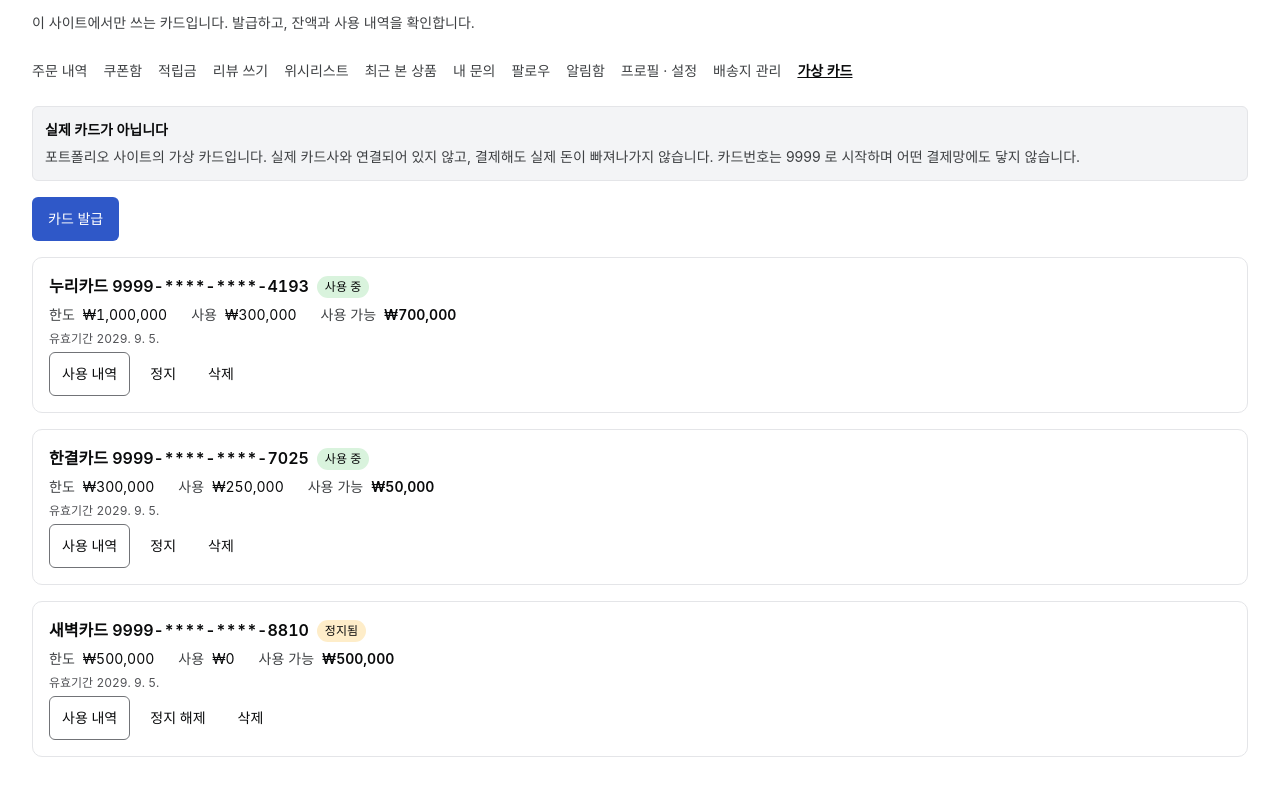
Scenario: 정지와 해제 (F5) › brings it back
(page scrolled)
Step 1. Click the button "정지 해제" → (178, 718), box [138, 696, 218, 740]
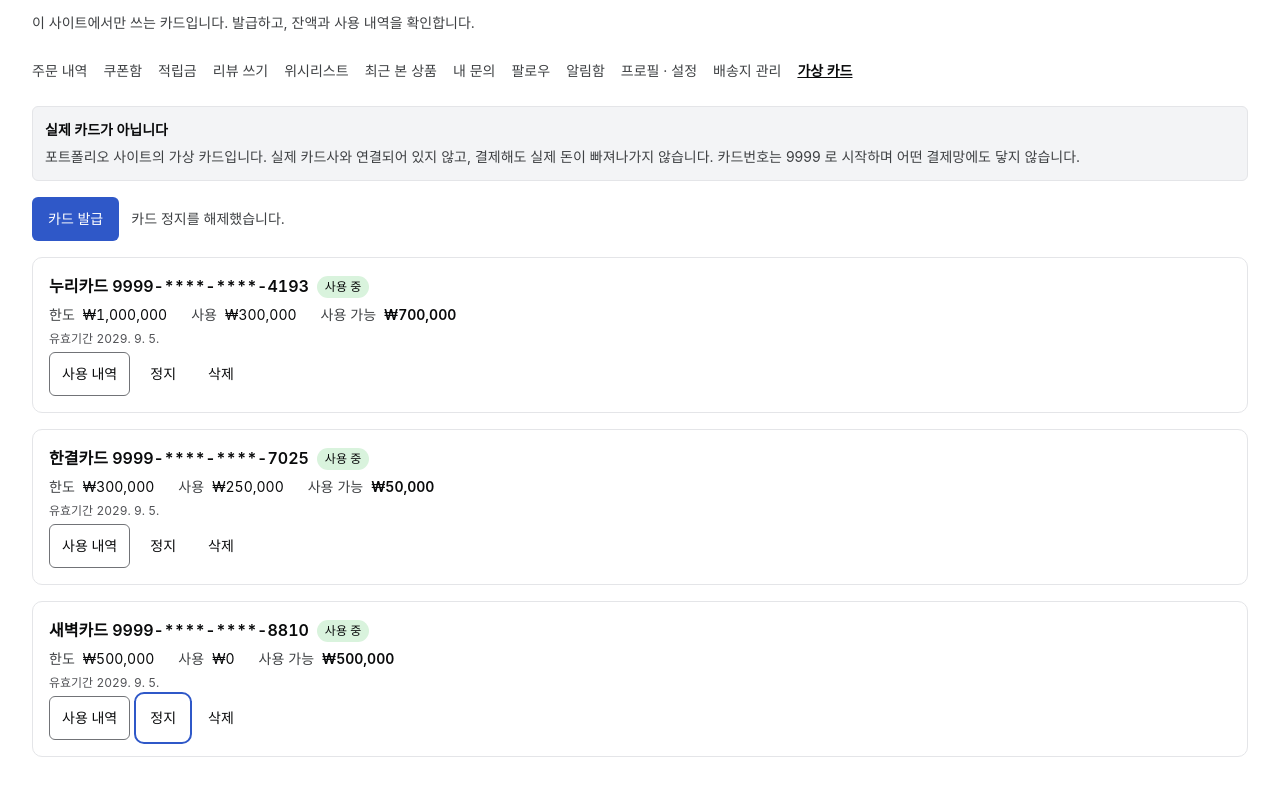
Expected: the text "카드 정지를 해제했습니다." is shown, [131, 208, 285, 230]
